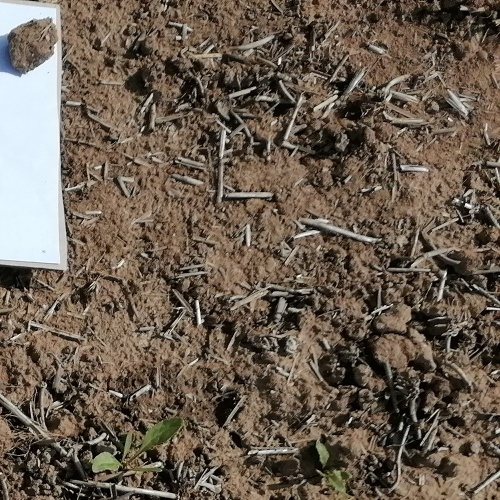beet: (92, 419, 183, 471), (316, 438, 349, 493)
